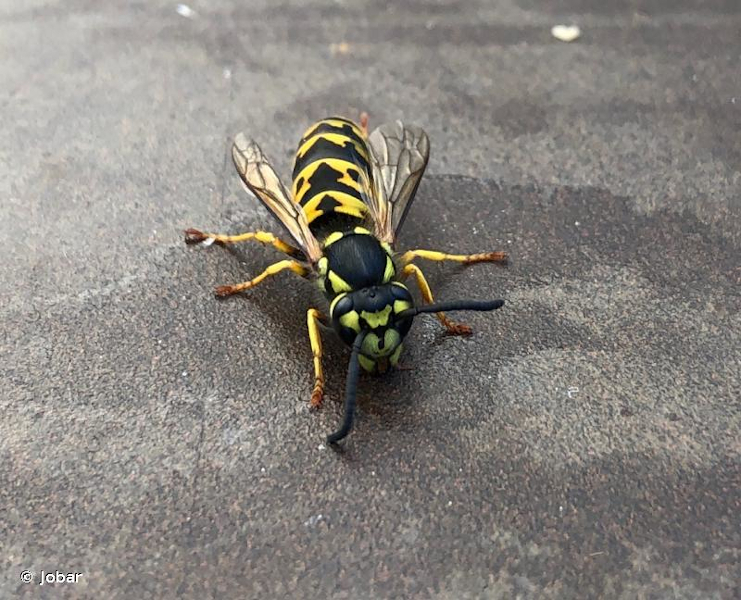chax: (181, 106, 515, 458)
